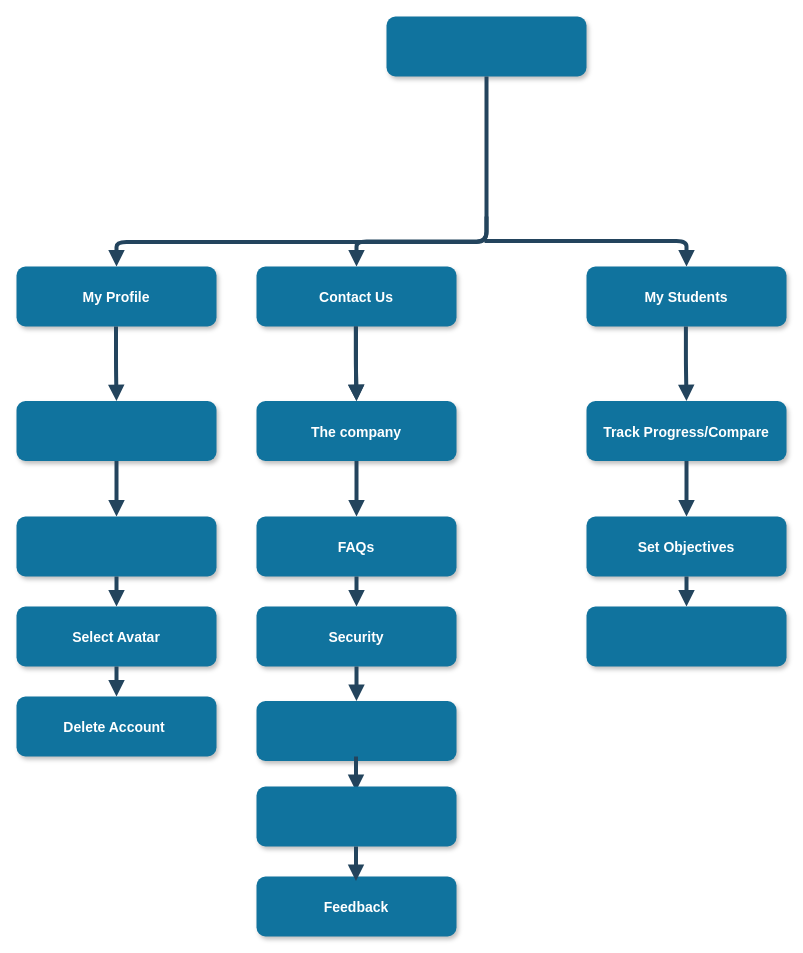
Image size: 803x953. Some labels were removed from this diagram. The shapes that lost their labels are listed below. From the top down, each one's centre as x and y in pixels, then its label:
[487,47]: Homepage
[117,432]: View Profile
[117,547]: Edit Profile
[687,637]: Challenge
[357,732]: Device support
[357,817]: Report
